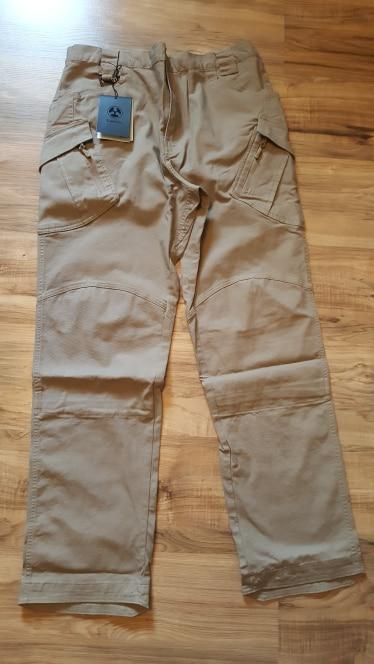pants: (19, 39, 370, 622)
